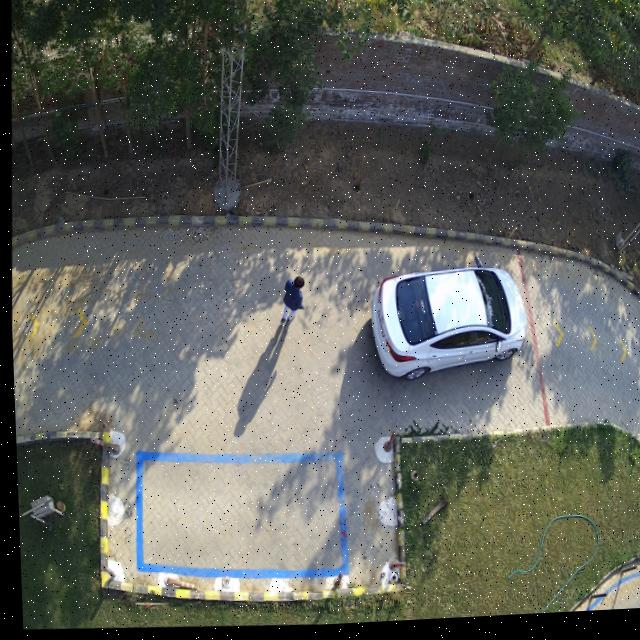car: (368, 264, 523, 383)
